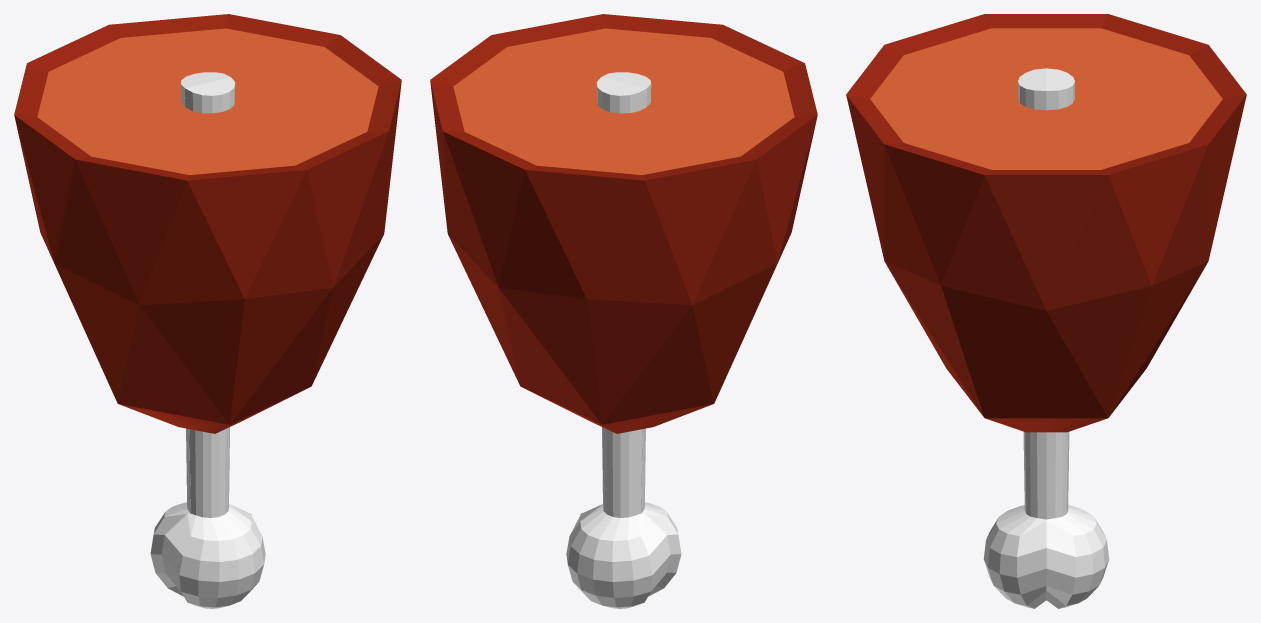
Rendered from Meat.fbx.
The picture shows the model from 3 angles, left to right: view 1: azimuth 30°, elevation 25°; view 2: azimuth 150°, elevation 25°; view 3: azimuth 270°, elevation 25°; orthographic projection.
Parts seen in each view (by area): view 1: Meat; view 2: Meat; view 3: Meat.
Part boxes in pixels (box(x1,y1,x2,y2)): Meat: box(14, 14, 401, 608); Meat: box(430, 14, 817, 608); Meat: box(846, 14, 1246, 608).
Bounding box in the file's own units: 0.6686 × 1.01 × 0.703.
